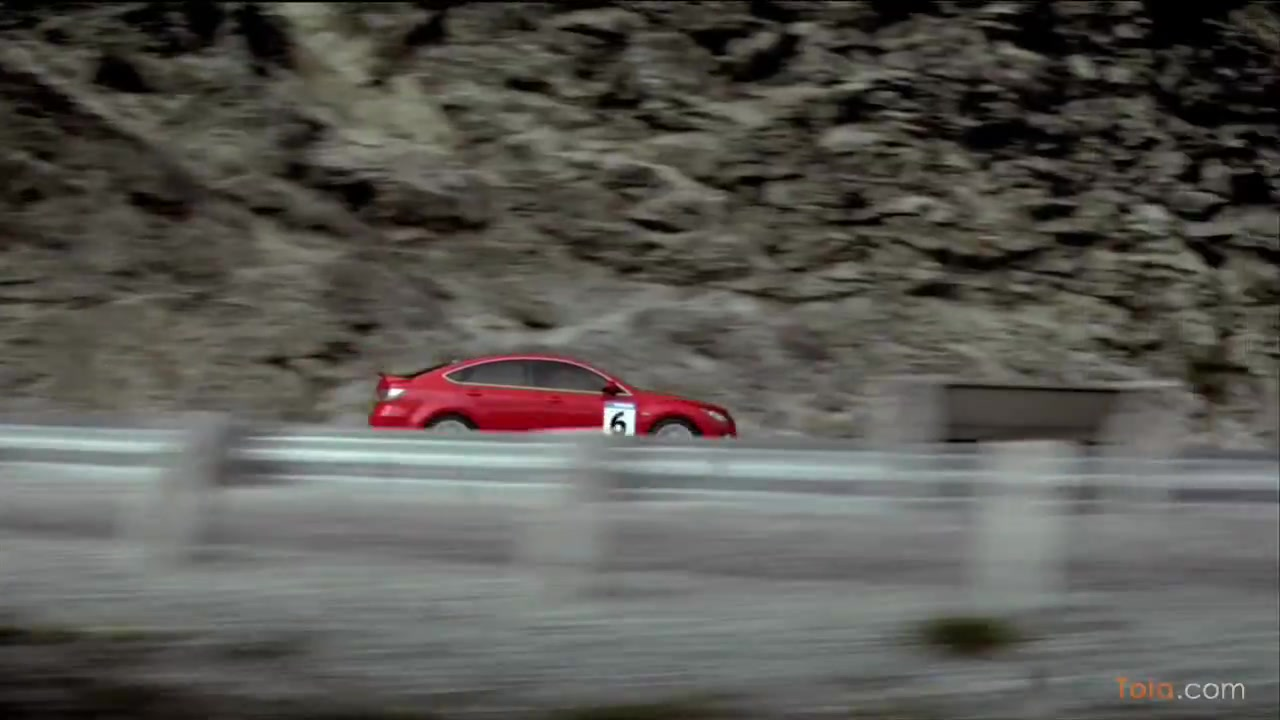car: (373, 347, 741, 452)
